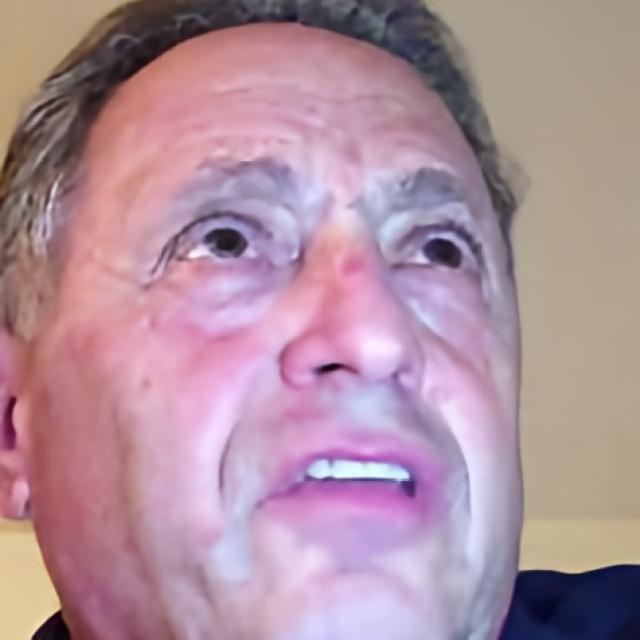disgust: (32, 14, 524, 640)
